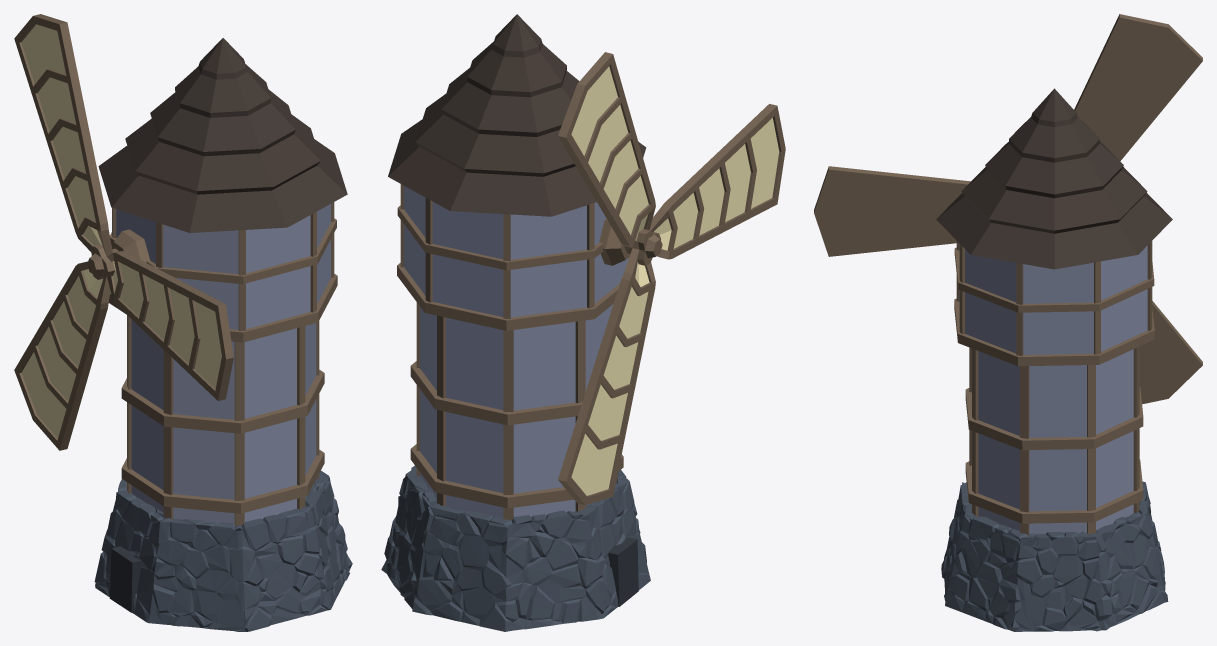
The model's file is windmill.fbx.
The picture shows the model from 3 angles, left to right: view 1: azimuth 30°, elevation 25°; view 2: azimuth 150°, elevation 25°; view 3: azimuth 270°, elevation 25°; orthographic projection. The views are drawn at different scales.
Parts seen in each view (by area): view 1: Cylinder.001, Cylinder.002; view 2: Cylinder.001, Cylinder.002; view 3: Cylinder.001, Cylinder.002.
Boxes of the visible parts, x1,y1,x2,y2 form: Cylinder.001: (94,38,352,631); Cylinder.002: (14,14,233,450); Cylinder.001: (381,14,650,631); Cylinder.002: (558,52,785,505); Cylinder.001: (936,88,1172,631); Cylinder.002: (814,14,1202,404).
Bounding box in the file's own units: 20.74 × 45.2 × 31.02.
